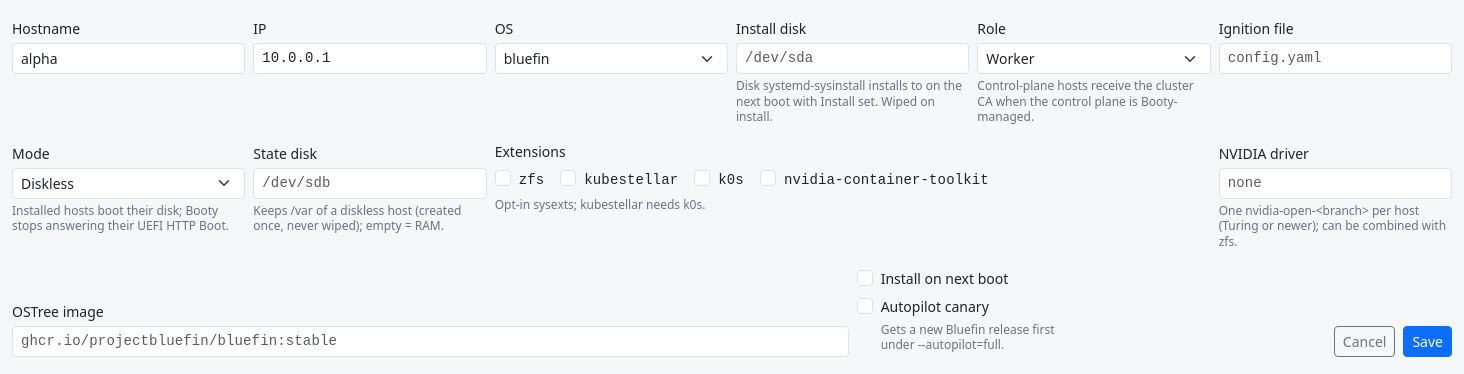
HostForm › shows the install disk field for bluefin and coreos, right after OS
Expected: the element with test id "install-disk-field" is shown, [732,16,973,125]
Expected: the element with test id "install-disk-field" shows "Install disk", [736,19,806,38]
Step 1. Select "coreos" in the dropdown labelled "OS" → {"x": 611, "y": 58}, box [495,43,728,74]
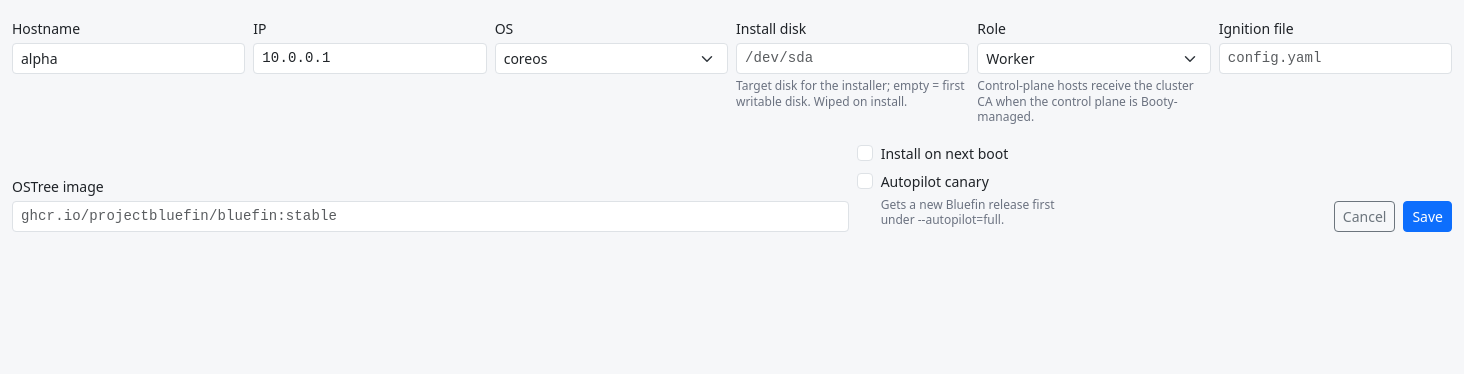
Expected: the element with test id "install-disk-field" is shown, [732,16,973,109]
Now the element with test id "install-disk-field" shows "empty = first writable disk", box [736,77,964,110]
